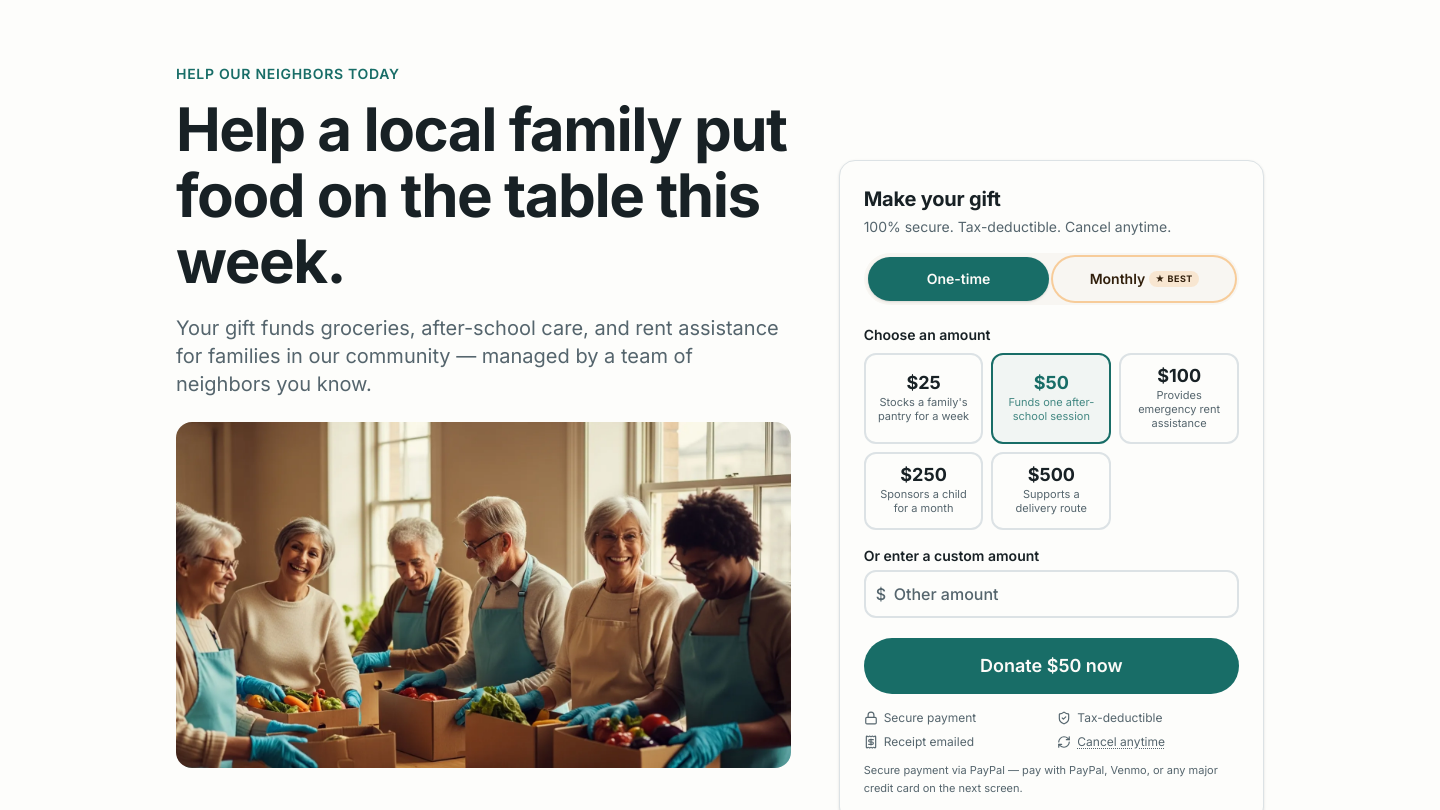
Test: Landing page — donation module › custom amount overrides preset and updates the CTA
Type "73" into the number field labelled "Or enter a custom amount".
click(1051, 594); type("73")  # box left=864, top=570, right=1239, bottom=618
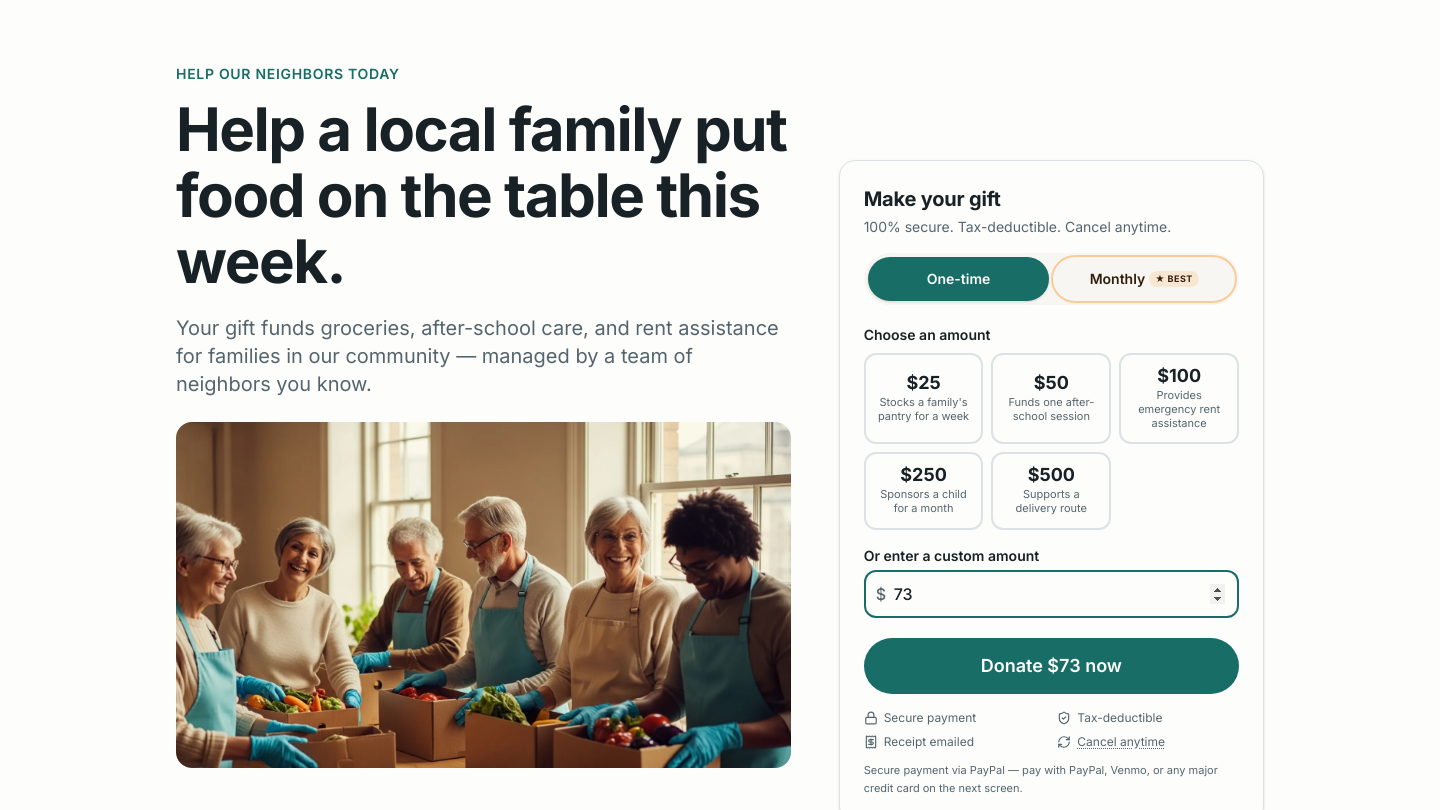
Check: the link "Donate $73 now" is shown, box left=864, top=638, right=1239, bottom=694
